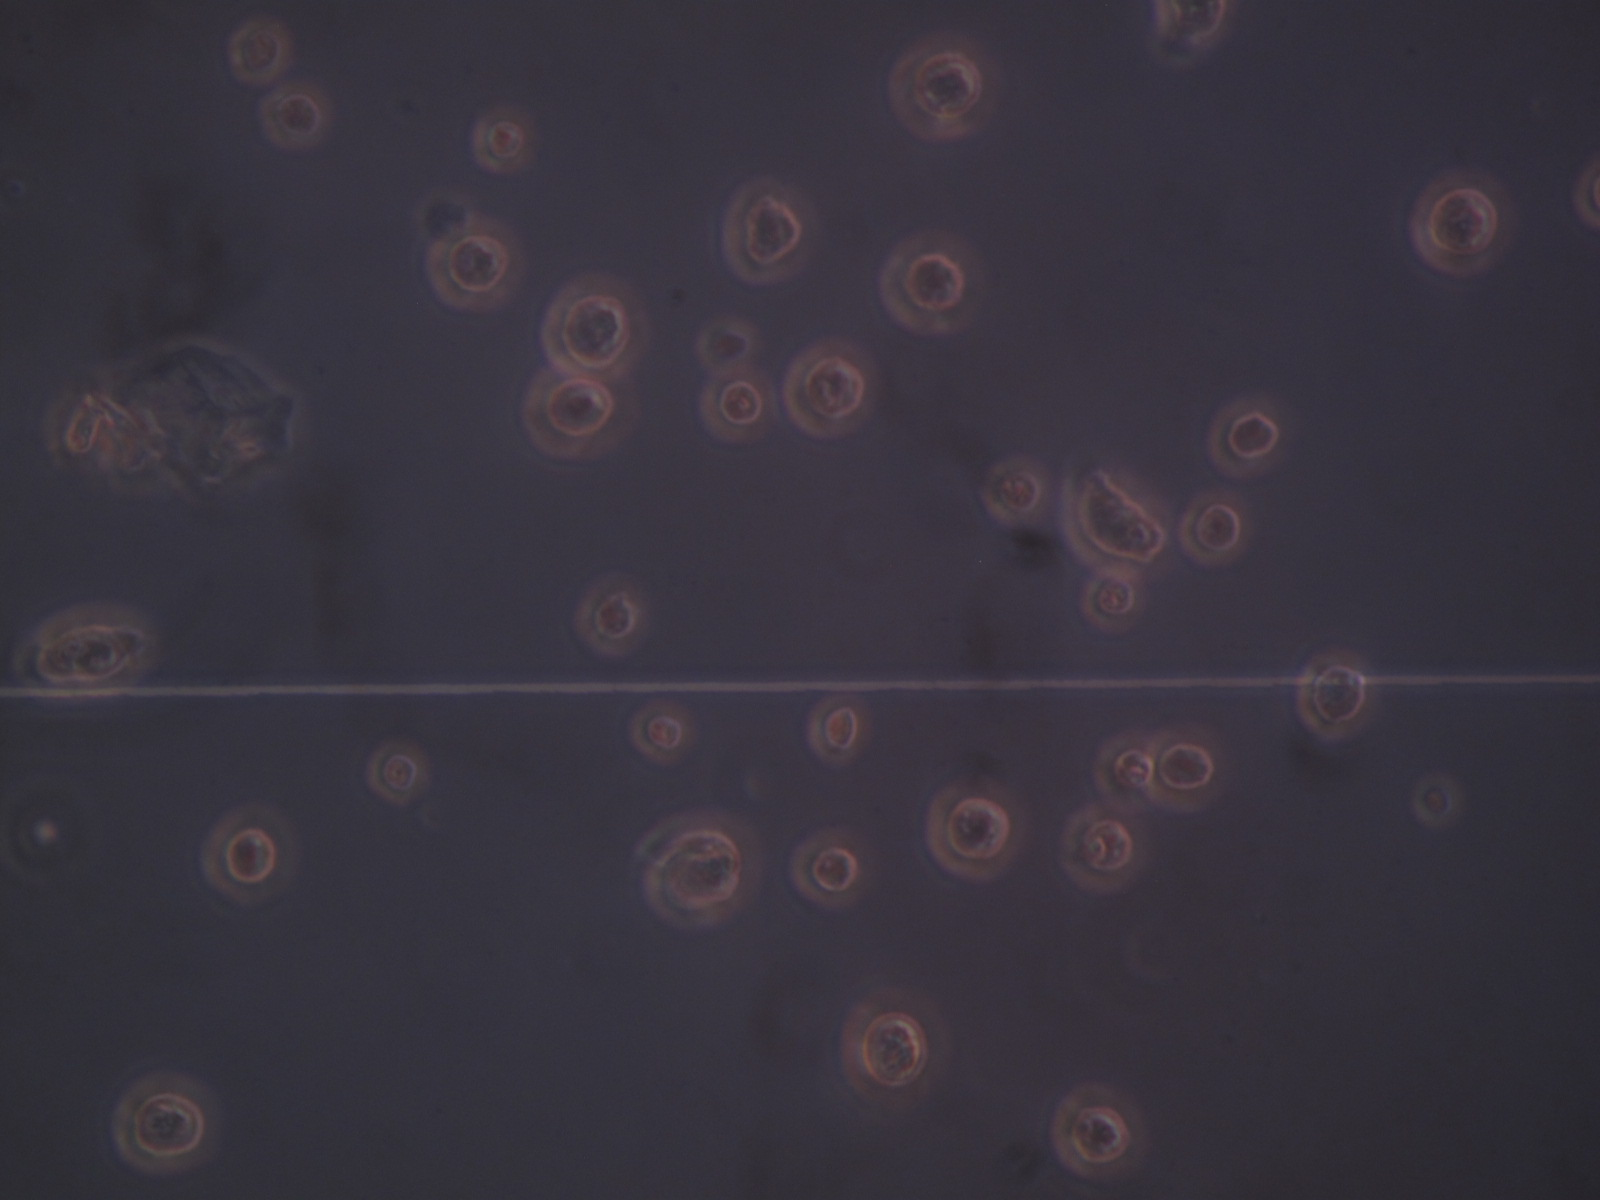hemo: (645, 812, 763, 932), (1060, 456, 1172, 579), (840, 988, 950, 1105), (26, 606, 161, 695), (1411, 165, 1511, 280), (112, 1071, 222, 1174), (542, 274, 646, 378), (525, 364, 640, 459), (877, 229, 974, 337), (721, 176, 811, 286), (202, 804, 299, 903), (785, 339, 882, 436), (1052, 1080, 1148, 1179), (929, 784, 1023, 882), (891, 43, 981, 142), (426, 217, 523, 309), (1060, 805, 1153, 890), (1146, 724, 1226, 813), (1299, 647, 1373, 740), (787, 828, 869, 913), (699, 368, 777, 444), (1208, 400, 1283, 478), (1178, 489, 1249, 561), (258, 82, 334, 149), (981, 455, 1049, 526), (577, 579, 639, 655), (1096, 729, 1159, 800), (367, 739, 430, 804), (808, 695, 866, 763), (231, 20, 291, 84), (1155, 1, 1233, 50), (629, 700, 693, 759), (472, 107, 532, 171), (1083, 572, 1146, 632), (699, 320, 758, 368), (1412, 775, 1459, 823)
